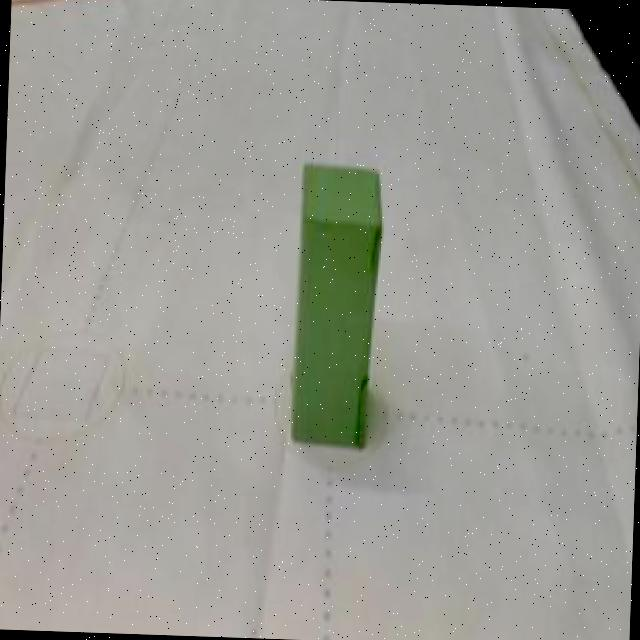greenbox: (279, 159, 388, 450)
